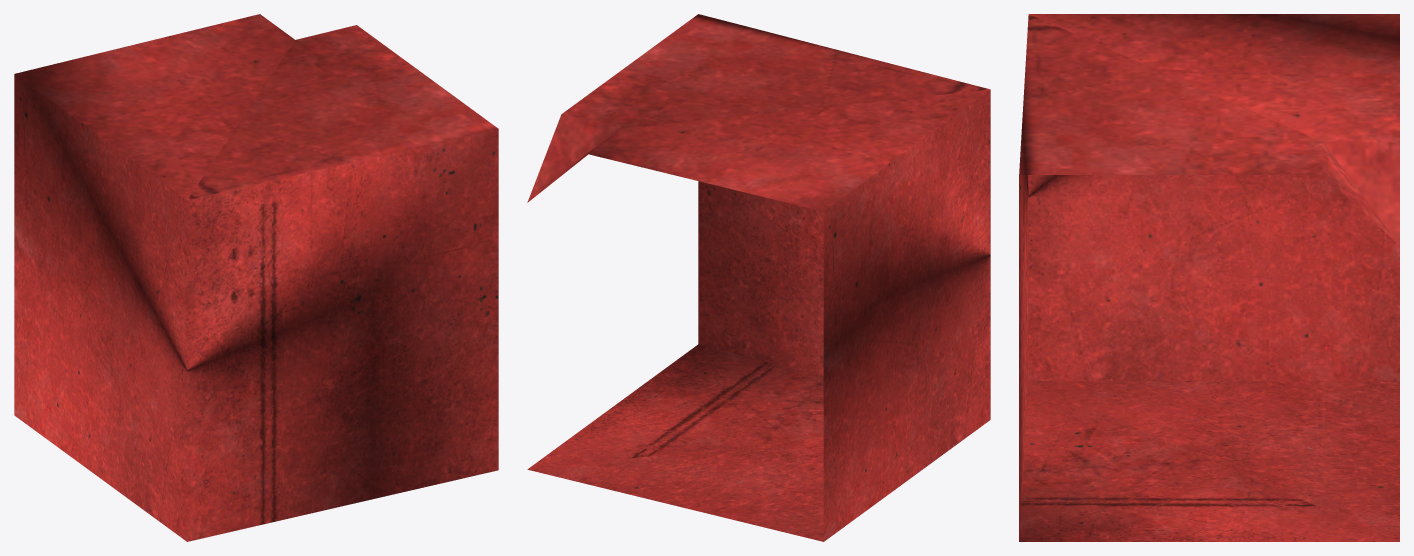
Rendered from Ob_RedBarrierCornerInner_RC.fbx.
3 renders of one model, left to right at view 1: azimuth 30°, elevation 25°; view 2: azimuth 150°, elevation 25°; view 3: azimuth 270°, elevation 25°, orthographic. The views are drawn at different scales.
Parts seen in each view (by area): view 1: Ob_RedBarrierCornerInner_RC; view 2: Ob_RedBarrierCornerInner_RC; view 3: Ob_RedBarrierCornerInner_RC.
Part boxes in pixels (box(x1,y1,x2,y2)): Ob_RedBarrierCornerInner_RC: box(14, 14, 498, 541); Ob_RedBarrierCornerInner_RC: box(527, 14, 990, 541); Ob_RedBarrierCornerInner_RC: box(1019, 14, 1399, 541).
Size of the model in its own units: 500 by 532 by 500.
